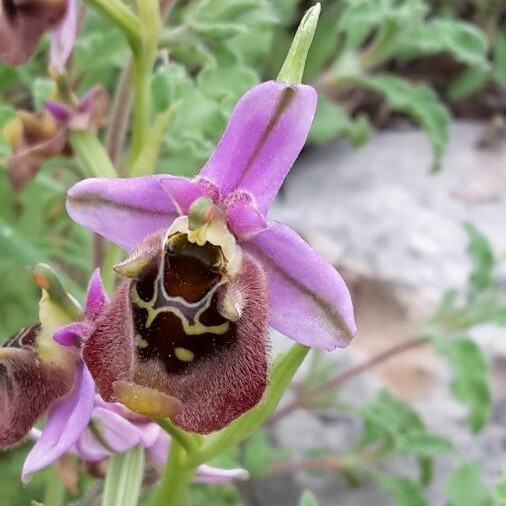obstacle: (33, 78, 360, 436)
